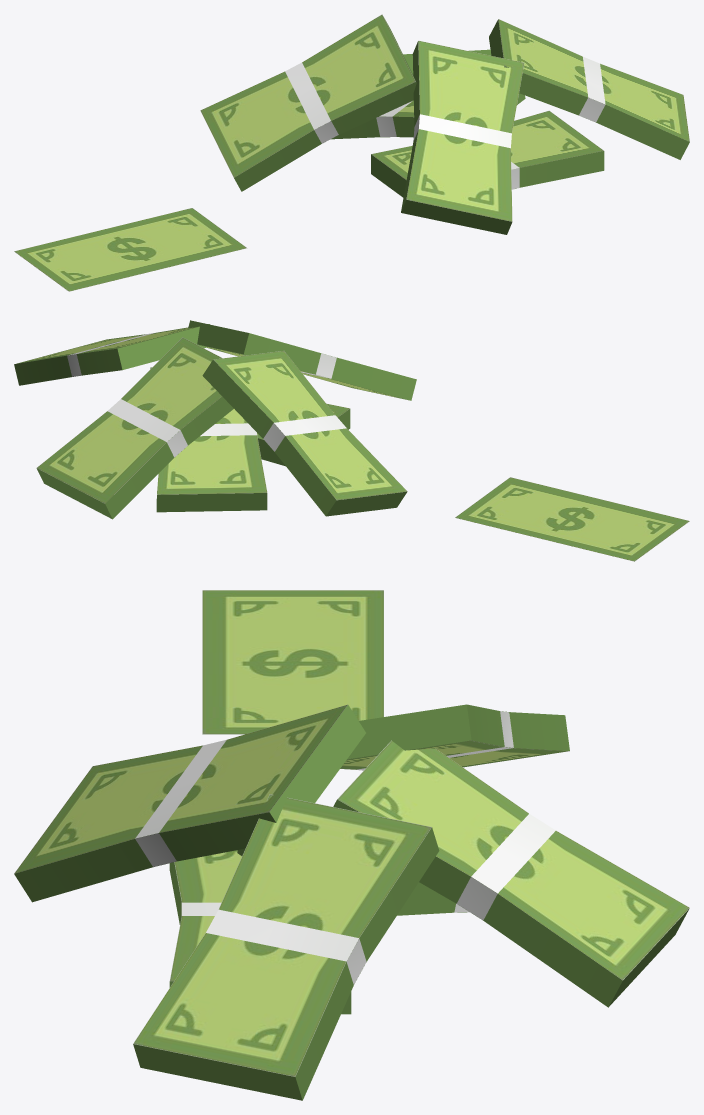
Rendered from Cash.fbx.
3 renders of one model, top to bottom at view 1: azimuth 30°, elevation 25°; view 2: azimuth 150°, elevation 25°; view 3: azimuth 270°, elevation 25°, orthographic. The views are drawn at different scales.
Parts seen in each view (by area): view 1: C3, C7, C5, Cash, C2, C4; view 2: C6, C7, Cash, C4, C3, C5, C2; view 3: C5, C6, C3, Cash, C7, C2, C4.
Part boxes in pixels (x1=…): C3: x1=401, y1=40, x2=524, y2=234; C7: x1=200, y1=14, x2=416, y2=191; C5: x1=489, y1=19, x2=689, y2=159; Cash: x1=14, y1=208, x2=246, y2=291; C2: x1=371, y1=110, x2=604, y2=197; C4: x1=331, y1=93, x2=525, y2=139; C6: x1=36, y1=337, x2=233, y2=519; C7: x1=202, y1=351, x2=407, y2=516; Cash: x1=455, y1=477, x2=689, y2=561; C4: x1=150, y1=367, x2=267, y2=512; C3: x1=188, y1=320, x2=416, y2=400; C5: x1=14, y1=324, x2=209, y2=385; C2: x1=257, y1=403, x2=350, y2=466; C5: x1=133, y1=794, x2=439, y2=1100; C6: x1=333, y1=740, x2=689, y2=1007; C3: x1=14, y1=704, x2=365, y2=902; Cash: x1=202, y1=590, x2=383, y2=734; C7: x1=340, y1=704, x2=569, y2=770; C2: x1=169, y1=850, x2=351, y2=1014; C4: x1=237, y1=848, x2=469, y2=915.
Bounding box in the file's own units: 106 × 19.38 × 58.38.
